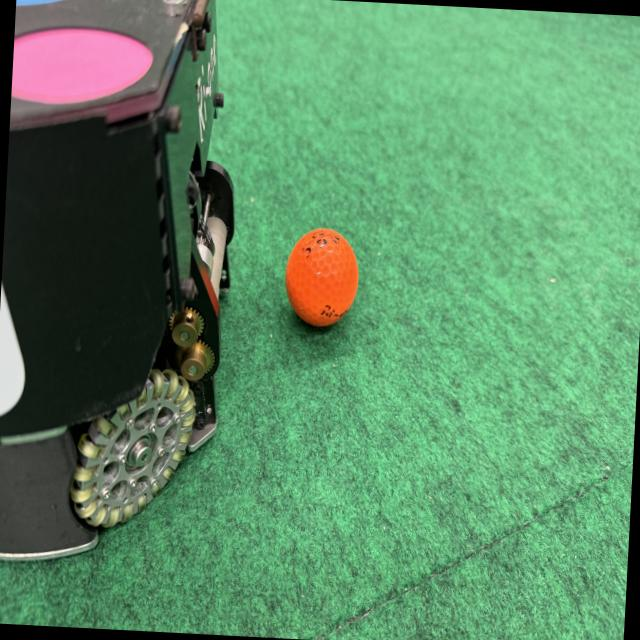ball: (277, 220, 368, 334)
